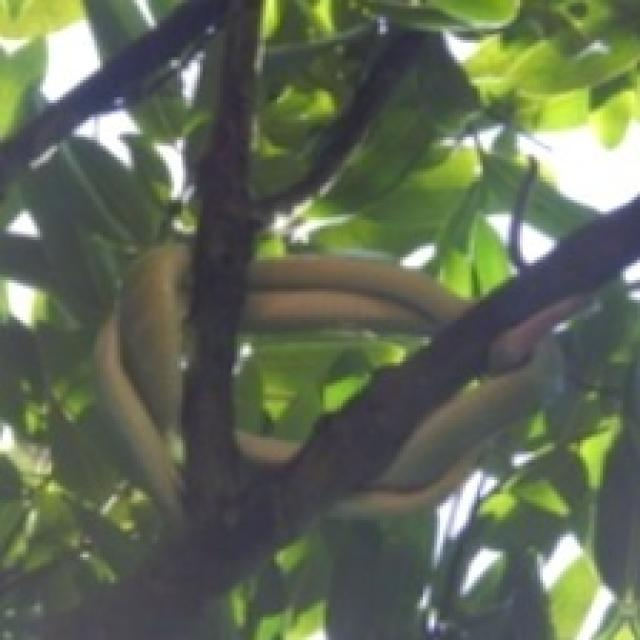red-tailed green ratsnake: (237, 254, 469, 460), (386, 303, 577, 486), (94, 246, 189, 514)
